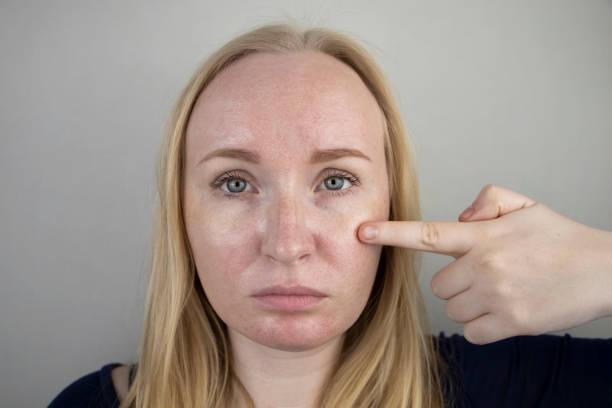Dry-Skin: (181, 206, 298, 299), (312, 211, 384, 274), (258, 286, 328, 348), (236, 80, 273, 127), (299, 101, 326, 124)
